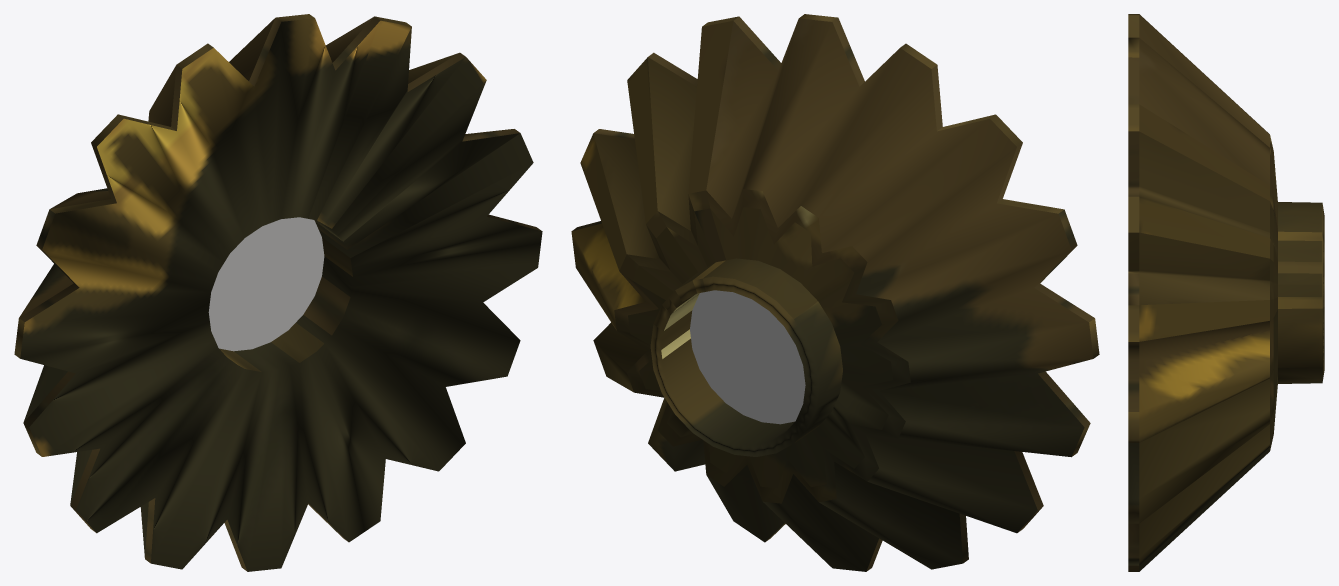
File: Diorama_Wheel_baked02.fbx
The picture shows the model from 3 angles, left to right: view 1: azimuth 30°, elevation 25°; view 2: azimuth 150°, elevation 25°; view 3: azimuth 270°, elevation 25°; orthographic projection. The views are drawn at different scales.
Parts seen in each view (by area): view 1: Axis.001; view 2: Axis.001; view 3: Axis.001.
Part boxes in pixels (<box>): Axis.001: <box>14,14,542,571</box>; Axis.001: <box>571,14,1099,571</box>; Axis.001: <box>1128,14,1324,571</box>.
Bounding box in the file's own units: 41.16 × 41.16 × 14.33.
Materials: 2 (2 with a texture image).
